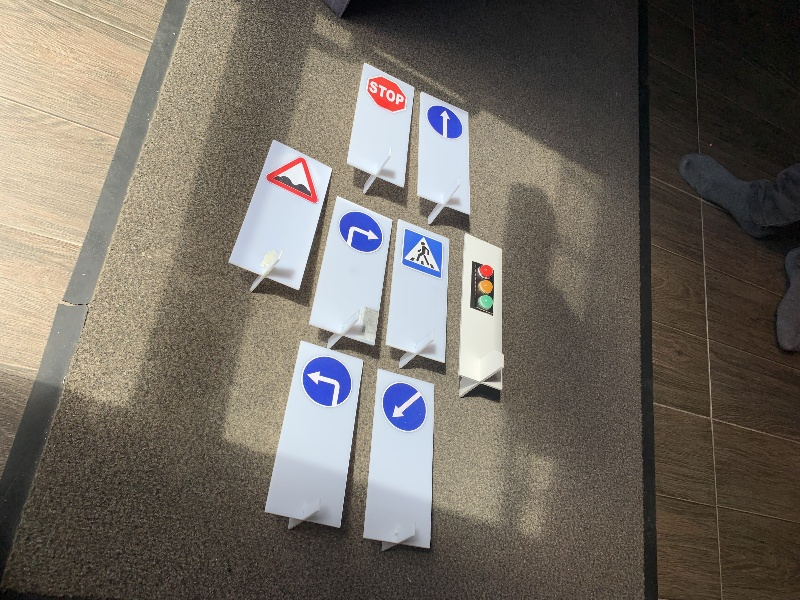Left: (302, 354, 355, 408)
Nerov: (268, 156, 319, 204)
Right: (338, 208, 384, 255)
Stop: (365, 76, 407, 116)
forw: (426, 104, 462, 140)
pesh: (401, 229, 443, 279)
prep: (383, 382, 427, 432)
